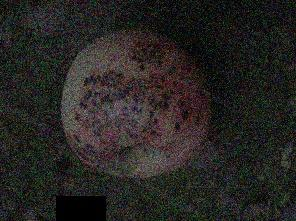rotten apple: (58, 24, 221, 177)
